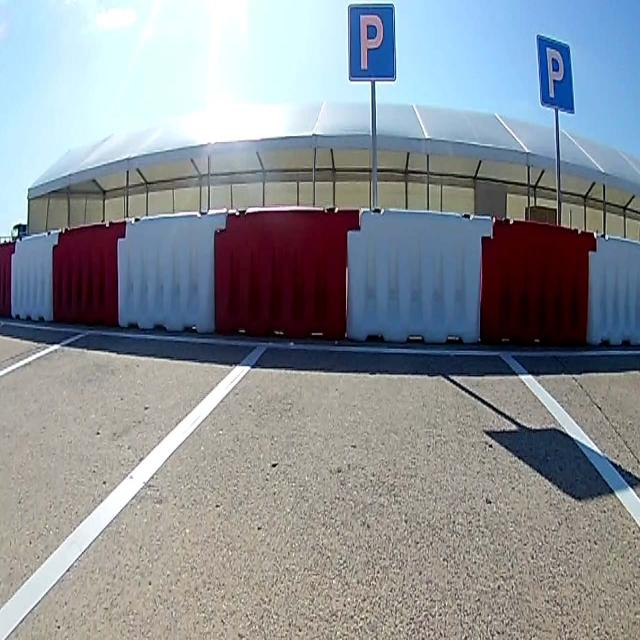park: (348, 7, 396, 77), (536, 34, 574, 112)
